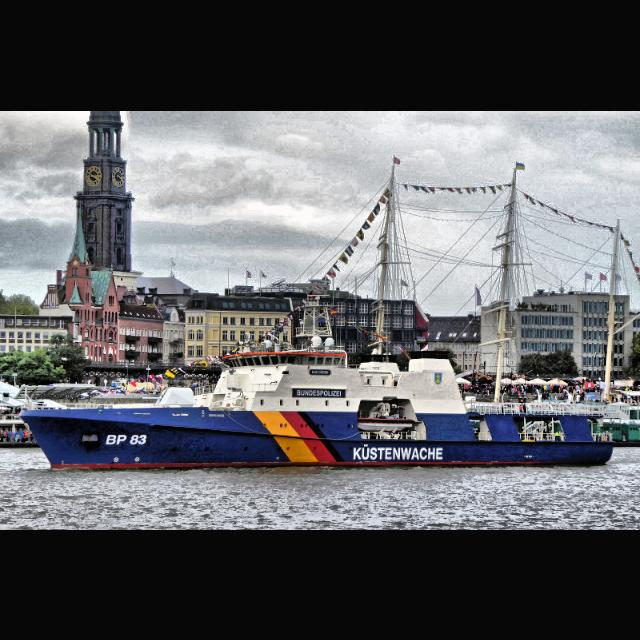patrol_vessel: (17, 307, 619, 471)
